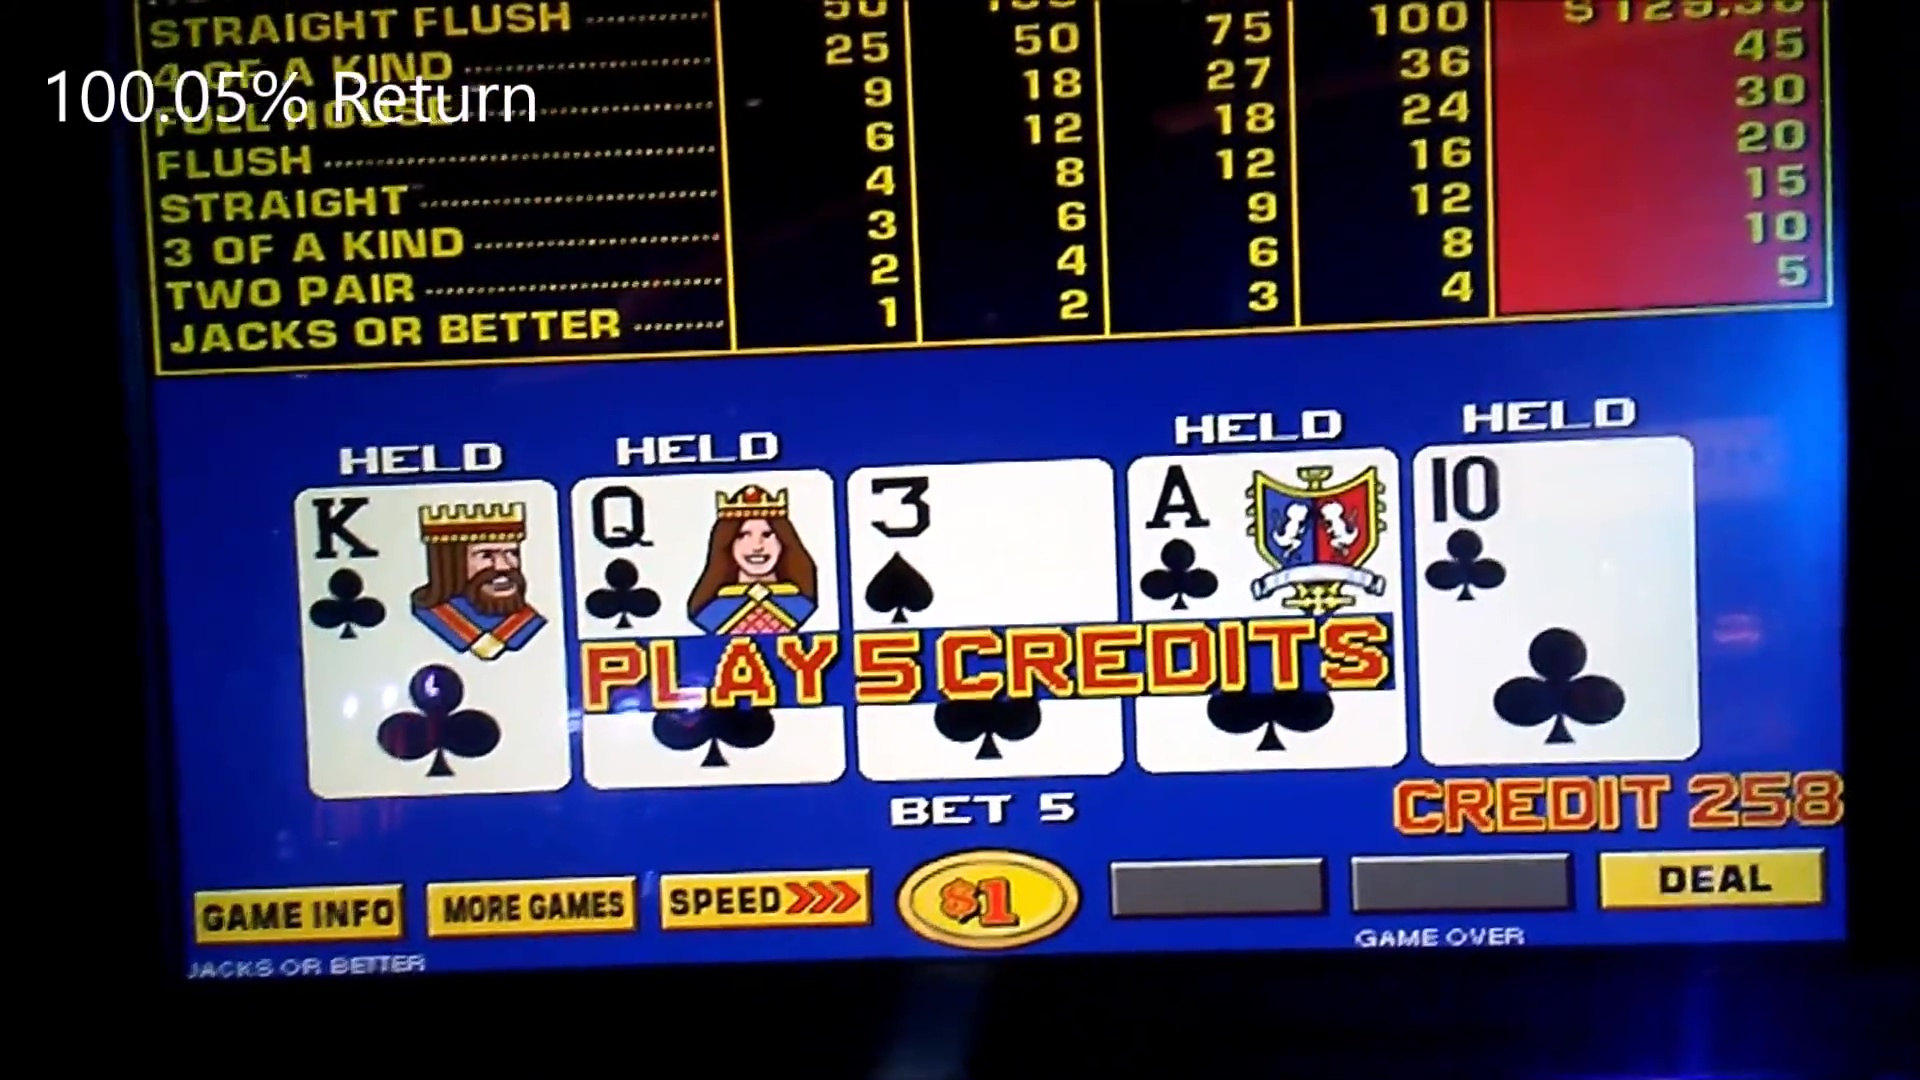3S: (851, 460, 1116, 617)
AC: (1135, 451, 1393, 615)
KC: (295, 491, 555, 654)
QC: (582, 468, 833, 630)
TC: (1418, 435, 1691, 617)
